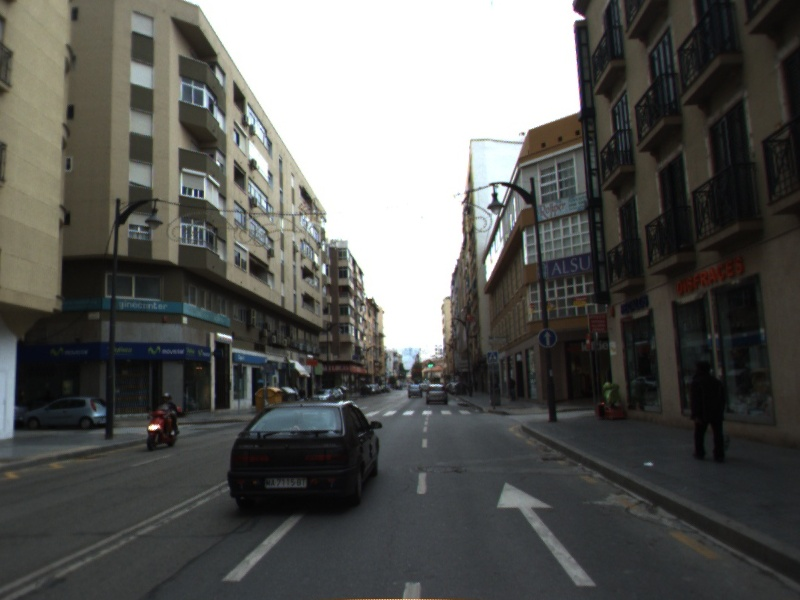STRAIGHT: (492, 478, 601, 589)
